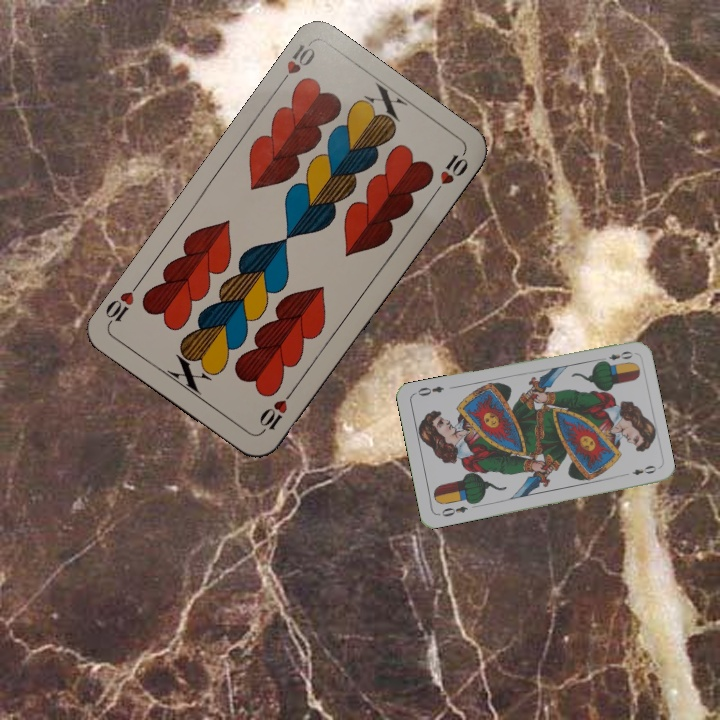EO: (596, 347, 635, 366), (437, 502, 470, 519)
H10: (273, 39, 318, 91), (255, 385, 297, 436)
